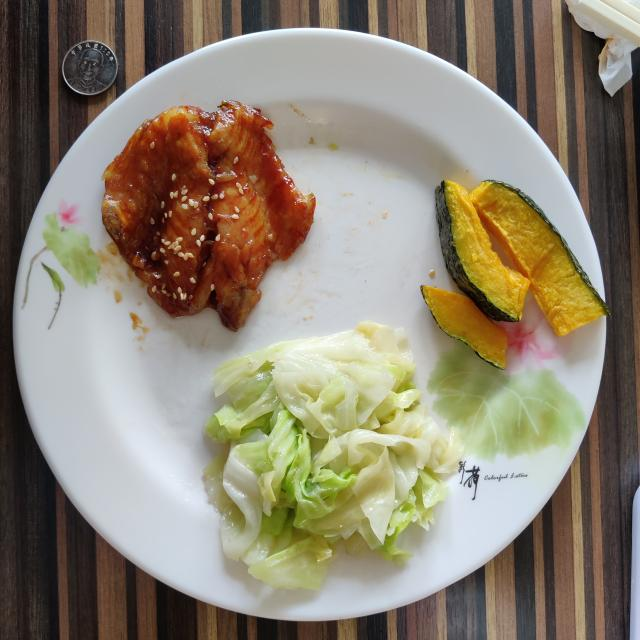Kabayaki sea bream fillet: (102, 101, 315, 331)
cabbage: (204, 321, 464, 589)
coin: (62, 40, 118, 95)
pumpkin: (470, 180, 610, 336), (421, 181, 530, 369)
